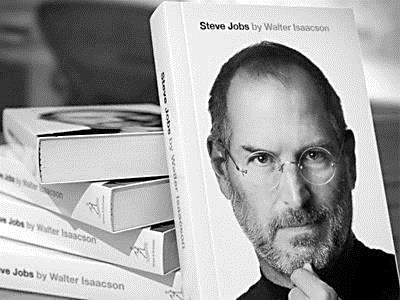Steven_Jobs: (199, 35, 394, 299)
